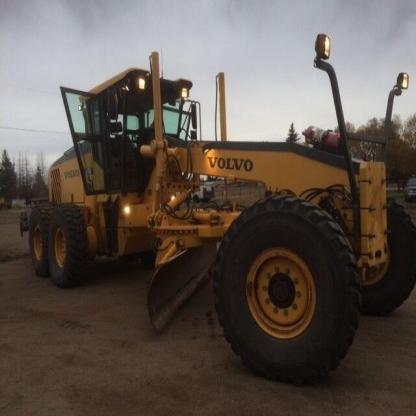bull_dozer/loader/grader: (21, 52, 416, 376)
